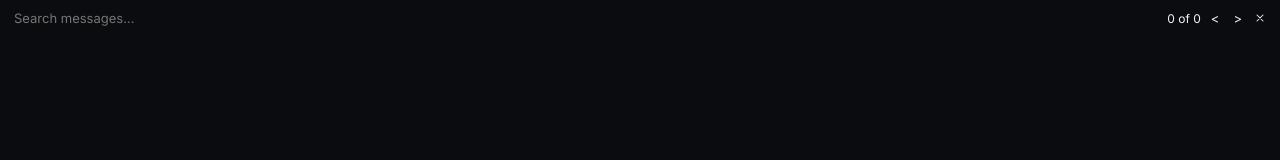
Test: ChatFilterBar › shows hit count when query matches
This screenshot has width=1280, height=160.
In the field with placeholder "Search messages…": point(577, 18) [12, 9, 1143, 27], type "hello"
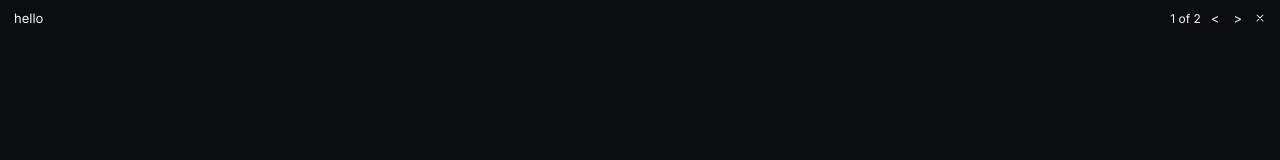
Expected: the text "1 of 2" is shown, [1170, 10, 1201, 26]
